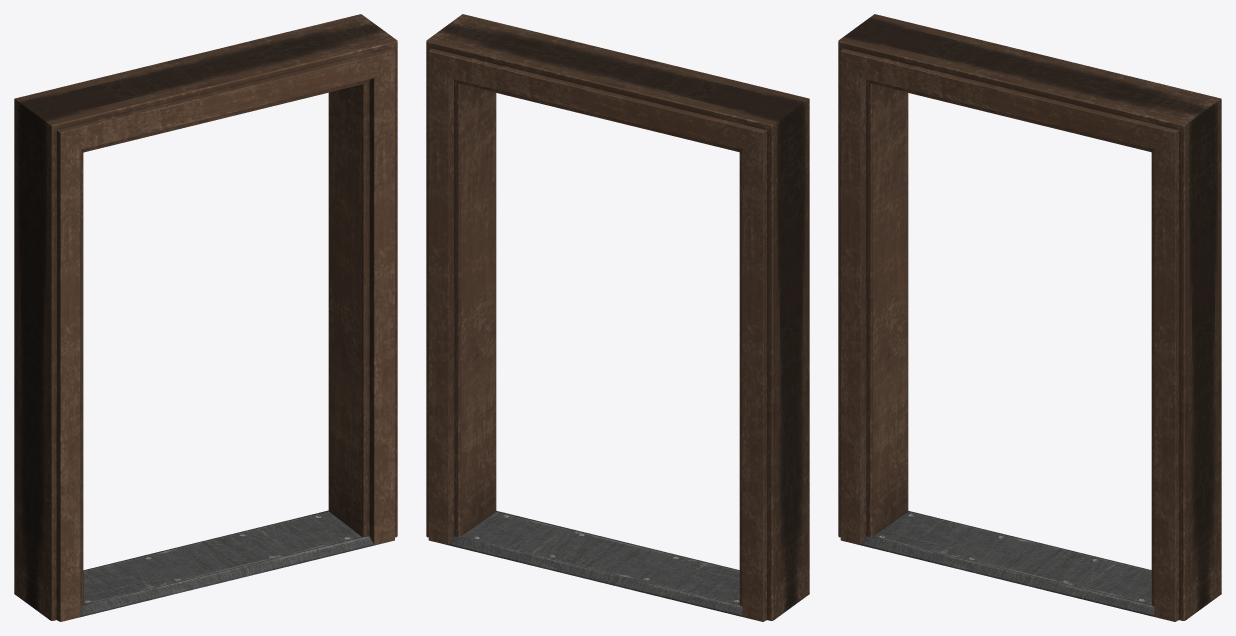
Rendered from scanroom_corridor_doorframe.dae.
3 views of the same model, side by side, from view 1: azimuth 30°, elevation 25°; view 2: azimuth 150°, elevation 25°; view 3: azimuth 330°, elevation 25° (orthographic).
Visible parts, largest first — view 1: polySurface205; view 2: polySurface205; view 3: polySurface205.
Part boxes in pixels (<box>): polySurface205: <box>14,14,397,621</box>; polySurface205: <box>426,14,809,621</box>; polySurface205: <box>838,14,1221,621</box>.
Bounding box in the file's own units: 217 × 297 × 47.87.
